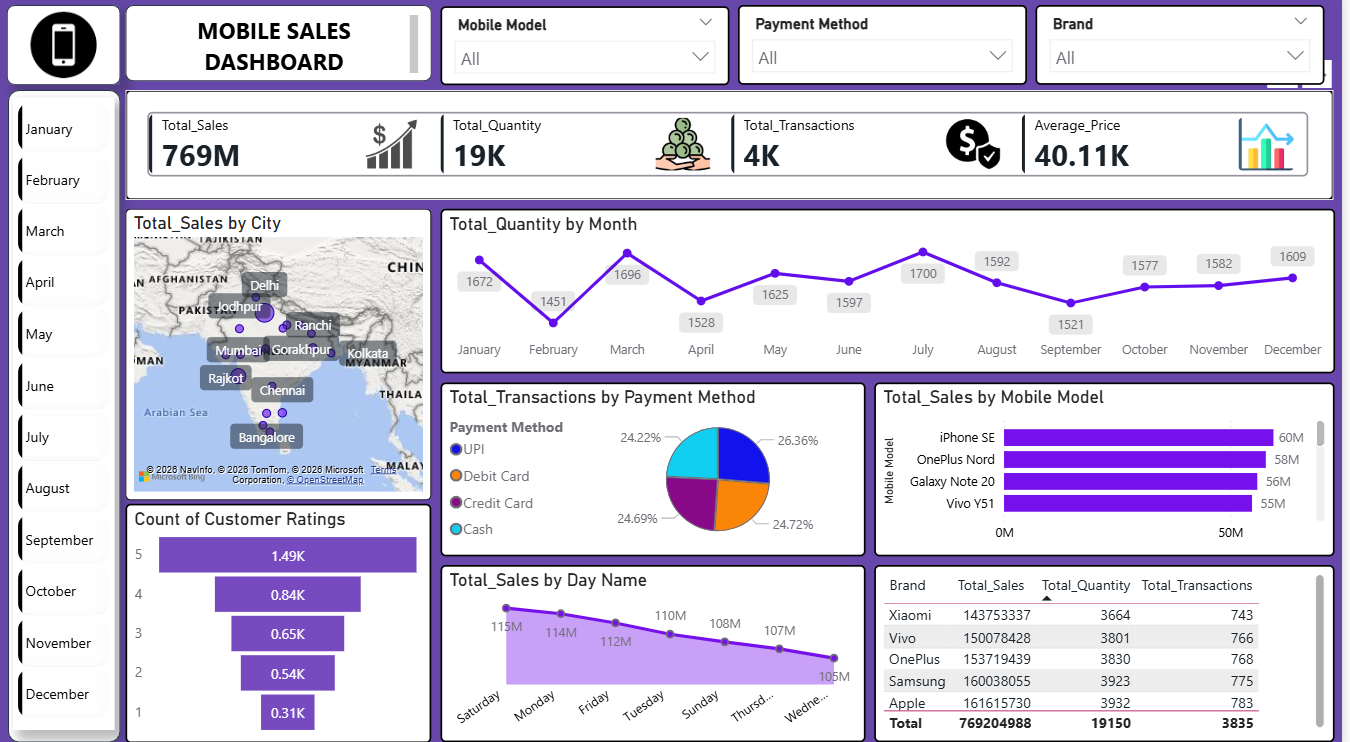

The dashboard page shown, as its layout file describes it:
{"tool":"powerbi","page":{"name":"Page 1","canvas":[1280,720],"ordinal":0},"visuals":[{"type":"shape","box":[8.3,9.5,108.3,76.2],"z":0},{"type":"image","box":[31,4.8,63.1,85.7],"z":1000},{"type":"shape","box":[9.5,90.5,107.1,621.4],"z":3000},{"type":"advancedSlicerVisual","fields":{"Values":["Custom_Calender.Date.Variation.Date Hierarchy.Month"]},"box":[14.3,97.6,96.4,602.4],"z":4000},{"type":"cardVisual","fields":{"Data":["Mobile-sales-data.Total_Sales","Mobile-sales-data.Total_Quantity","Mobile-sales-data.Total_Transactions","Mobile-sales-data.Average_Price"]},"box":[122,90.5,1150,104.8],"z":5000},{"type":"slicer","fields":{"Values":["Mobile-sales-data.Mobile Model"]},"box":[421.4,10.7,275,75],"z":6000},{"type":"slicer","fields":{"Values":["Mobile-sales-data.Payment Method"]},"box":[704.8,9.5,275,76.2],"z":7000},{"type":"slicer","fields":{"Values":["Mobile-sales-data.Brand"]},"box":[988.1,9.5,275,76.2],"z":8000},{"type":"shape","box":[121.4,9.5,291.7,72.6],"z":9000},{"type":"textbox","box":[130,13.8,275,66.2],"z":10000},{"type":"map","fields":{"Category":["Mobile-sales-data.City"],"Size":["Mobile-sales-data.Total_Sales"]},"box":[121,203.7,291.4,277.8],"z":11000},{"type":"lineChart","fields":{"Y":["Mobile-sales-data.Total_Quantity"],"Category":["Custom_Calender.Date.Variation.Date Hierarchy.Month"]},"box":[421,203.7,851.9,156.8],"z":12000},{"type":"funnel","title":"Count of Customer Ratings","fields":{"Category":["Mobile-sales-data.Customer Ratings"],"Y":["CountNonNull(Mobile-sales-data.Customer Ratings)"]},"box":[121,484,291.4,228.4],"z":13000},{"type":"pieChart","fields":{"Y":["Mobile-sales-data.Total_Transactions"],"Category":["Mobile-sales-data.Payment Method"]},"box":[421.4,369,404.8,165.5],"z":13001},{"type":"clusteredBarChart","fields":{"Y":["Mobile-sales-data.Total_Sales"],"Category":["Mobile-sales-data.Mobile Model"]},"box":[834.5,369,438.1,165.5],"z":13002},{"type":"areaChart","fields":{"Y":["Mobile-sales-data.Total_Sales"],"Category":["Custom_Calender.Day Name"]},"box":[421.4,542.9,404.8,169],"z":13003},{"type":"tableEx","fields":{"Values":["Mobile-sales-data.Brand","Mobile-sales-data.Total_Sales","Mobile-sales-data.Total_Quantity","Mobile-sales-data.Total_Transactions"]},"box":[835,543,438,169],"z":13004}]}

Visuals, with their boxes in screenshot pixels (x1, y1, x2, y2), scaled from the page's 1280x720 canvas onto the 1350x742 screenshot:
shape: {"x1": 9, "y1": 10, "x2": 123, "y2": 88}
image: {"x1": 33, "y1": 5, "x2": 99, "y2": 93}
shape: {"x1": 10, "y1": 93, "x2": 123, "y2": 734}
advancedSlicerVisual - Custom_Calender.Date.Variation.Date Hierarchy.Month: {"x1": 15, "y1": 101, "x2": 117, "y2": 721}
cardVisual - Mobile-sales-data.Total_Sales x Mobile-sales-data.Total_Quantity: {"x1": 129, "y1": 93, "x2": 1342, "y2": 201}
slicer - Mobile-sales-data.Mobile Model: {"x1": 444, "y1": 11, "x2": 734, "y2": 88}
slicer - Mobile-sales-data.Payment Method: {"x1": 743, "y1": 10, "x2": 1033, "y2": 88}
slicer - Mobile-sales-data.Brand: {"x1": 1042, "y1": 10, "x2": 1332, "y2": 88}
shape: {"x1": 128, "y1": 10, "x2": 436, "y2": 85}
textbox: {"x1": 137, "y1": 14, "x2": 427, "y2": 82}
map - Mobile-sales-data.City x Mobile-sales-data.Total_Sales: {"x1": 128, "y1": 210, "x2": 435, "y2": 496}
lineChart - Mobile-sales-data.Total_Quantity x Custom_Calender.Date.Variation.Date Hierarchy.Month: {"x1": 444, "y1": 210, "x2": 1343, "y2": 372}
"Count of Customer Ratings" funnel: {"x1": 128, "y1": 499, "x2": 435, "y2": 734}
pieChart - Mobile-sales-data.Total_Transactions x Mobile-sales-data.Payment Method: {"x1": 444, "y1": 380, "x2": 871, "y2": 551}
clusteredBarChart - Mobile-sales-data.Total_Sales x Mobile-sales-data.Mobile Model: {"x1": 880, "y1": 380, "x2": 1342, "y2": 551}
areaChart - Mobile-sales-data.Total_Sales x Custom_Calender.Day Name: {"x1": 444, "y1": 559, "x2": 871, "y2": 734}
tableEx - Mobile-sales-data.Brand x Mobile-sales-data.Total_Sales: {"x1": 881, "y1": 560, "x2": 1343, "y2": 734}
